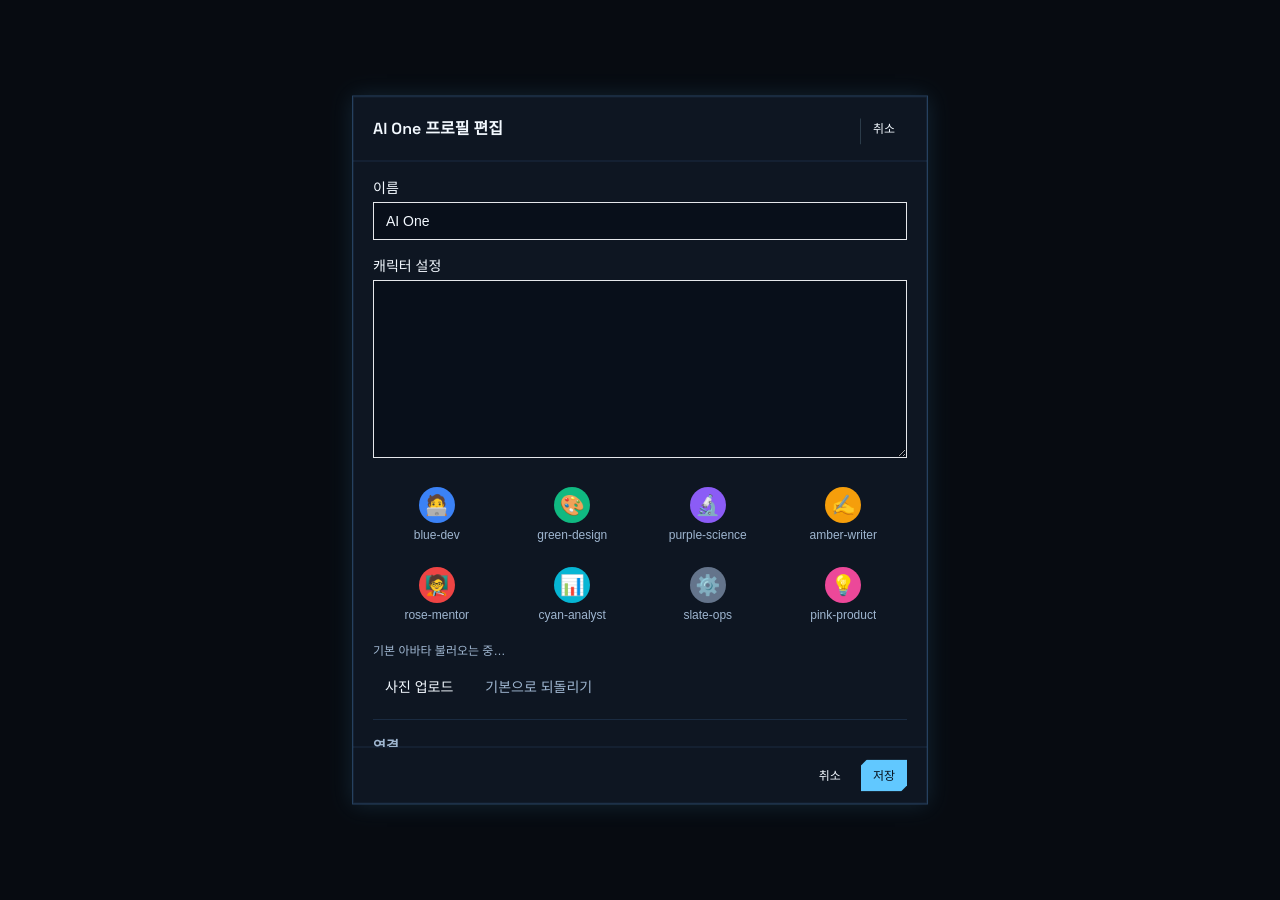
chat character profile › shows a dedicated duplicate-name message and keeps the modal open on member:rename collision
Replace the text in the field with test id "profile-editor-name" with "Taken": (640, 220) [373,202,907,240]
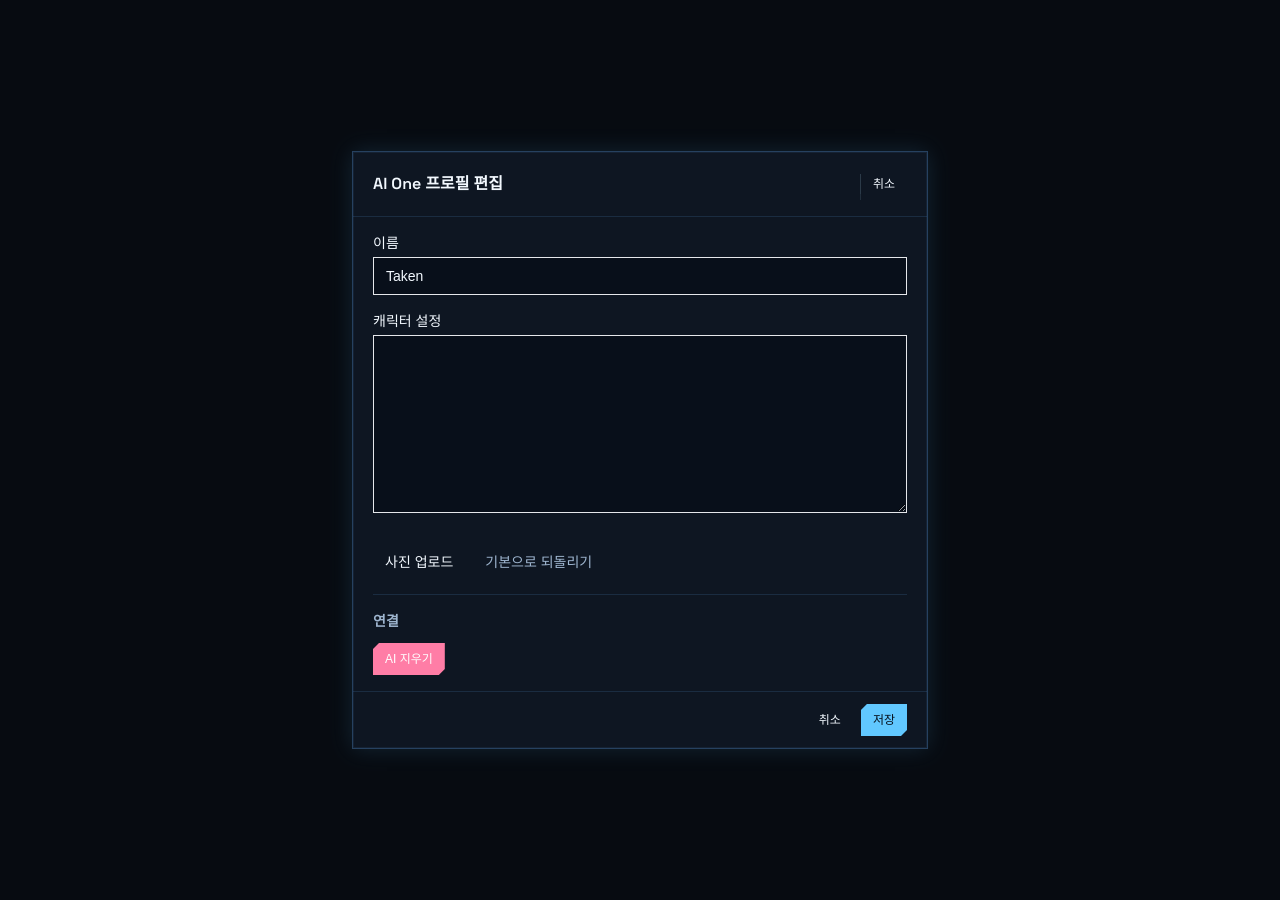
Click the button with test id "profile-editor-save": (884, 720) [861,704,907,736]
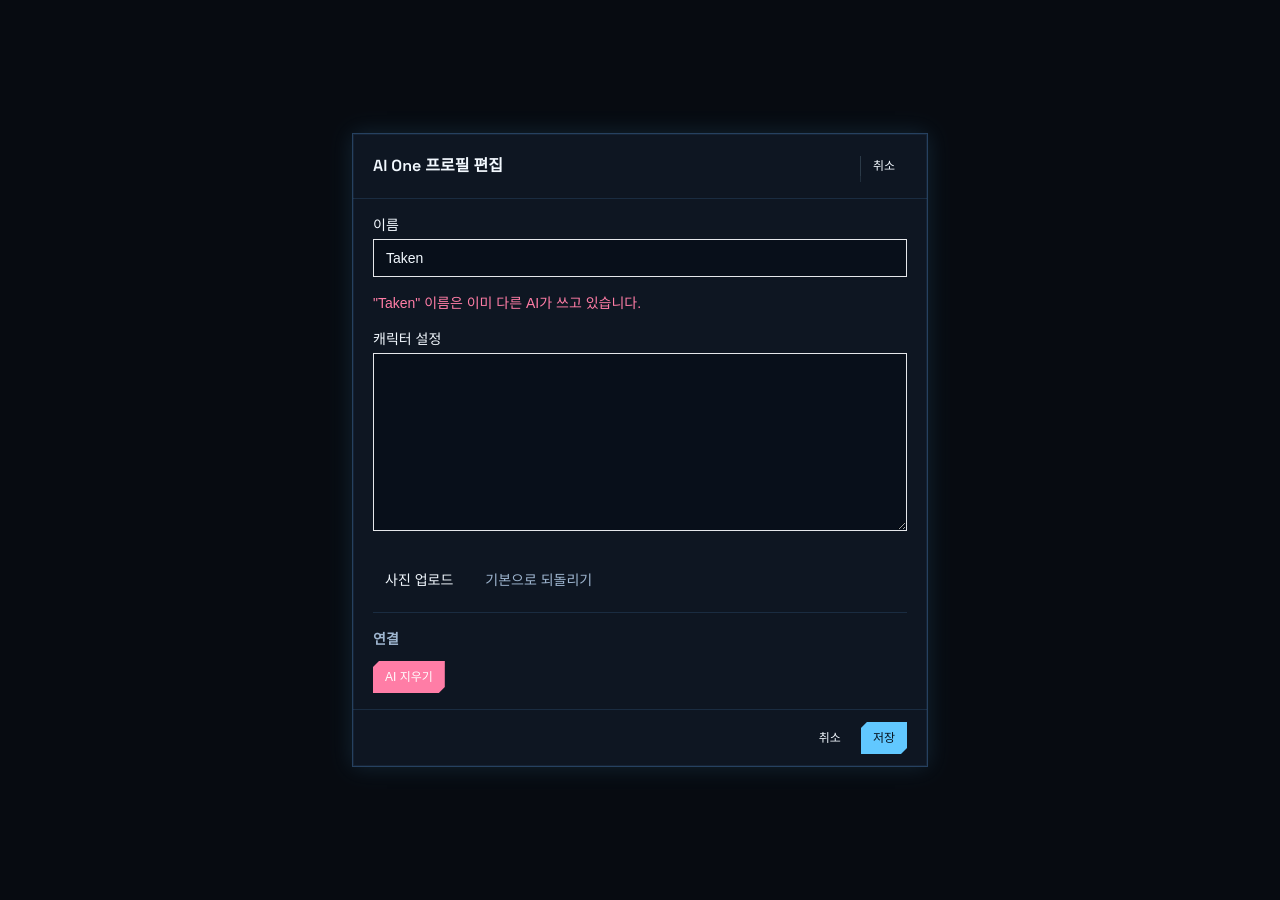
Check: the dialog with test id "profile-editor-dialog" is shown, box [352,133,928,767]
Check: the message "\"Taken\" 이름은 이미 다른 AI가 쓰고 있습니다." is shown, box [373,295,641,311]
